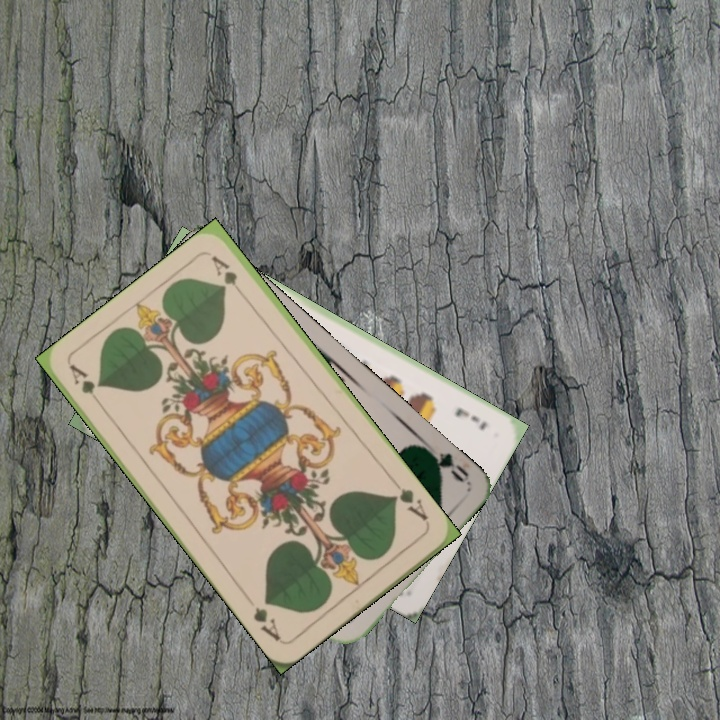E7: (451, 403, 490, 433)
GA: (388, 477, 431, 528), (65, 361, 107, 412)
GO: (420, 443, 472, 485)
